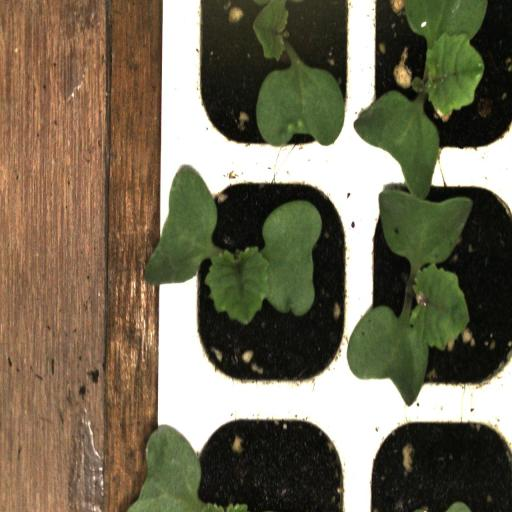Folha: (245, 0, 345, 147)
Germinacao: (180, 163, 355, 401), (356, 165, 512, 406), (360, 0, 512, 169)
